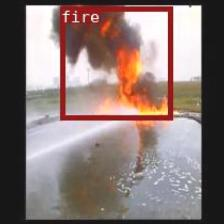fire: (60, 6, 172, 119)
